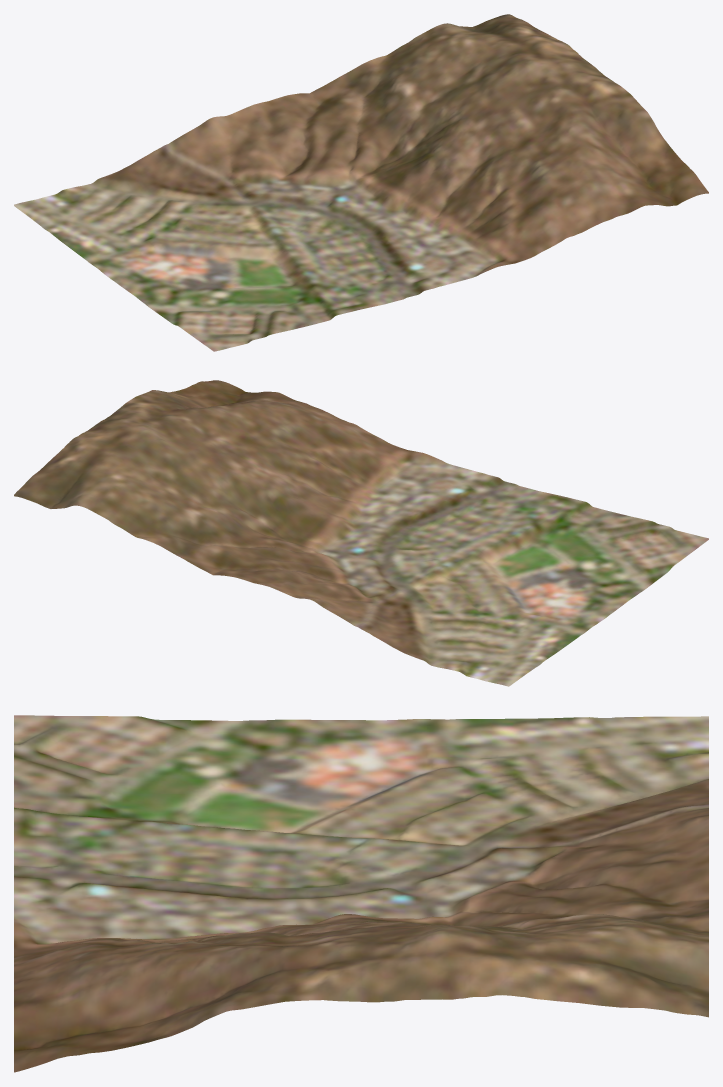
The model's file is terrain_r2_c5.glb.
3 views of the same model, one above another, from view 1: azimuth 30°, elevation 25°; view 2: azimuth 150°, elevation 25°; view 3: azimuth 270°, elevation 25° (orthographic). The views are drawn at different scales.
Parts seen in each view (by area): view 1: terrain_r2_c5_lod0; view 2: terrain_r2_c5_lod0; view 3: terrain_r2_c5_lod0.
Part boxes in pixels (<box>): terrain_r2_c5_lod0: <box>14,14,708,351</box>; terrain_r2_c5_lod0: <box>14,380,708,686</box>; terrain_r2_c5_lod0: <box>14,715,708,1072</box>.
Bounding box in the file's own units: 1125 × 205 × 787.
1 material, 1 textured.
